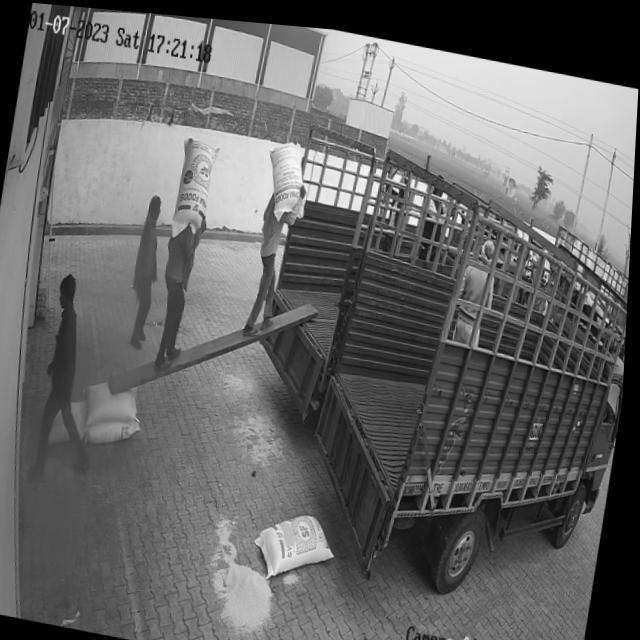sack: (253, 498, 345, 584), (170, 132, 222, 238), (259, 133, 316, 220), (84, 376, 144, 433), (51, 393, 93, 451), (90, 407, 147, 447)
